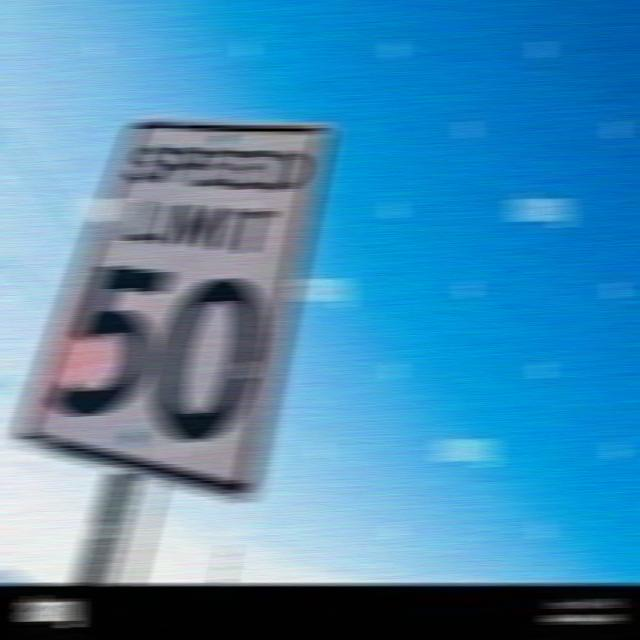speedLimit50: (15, 112, 337, 493)
